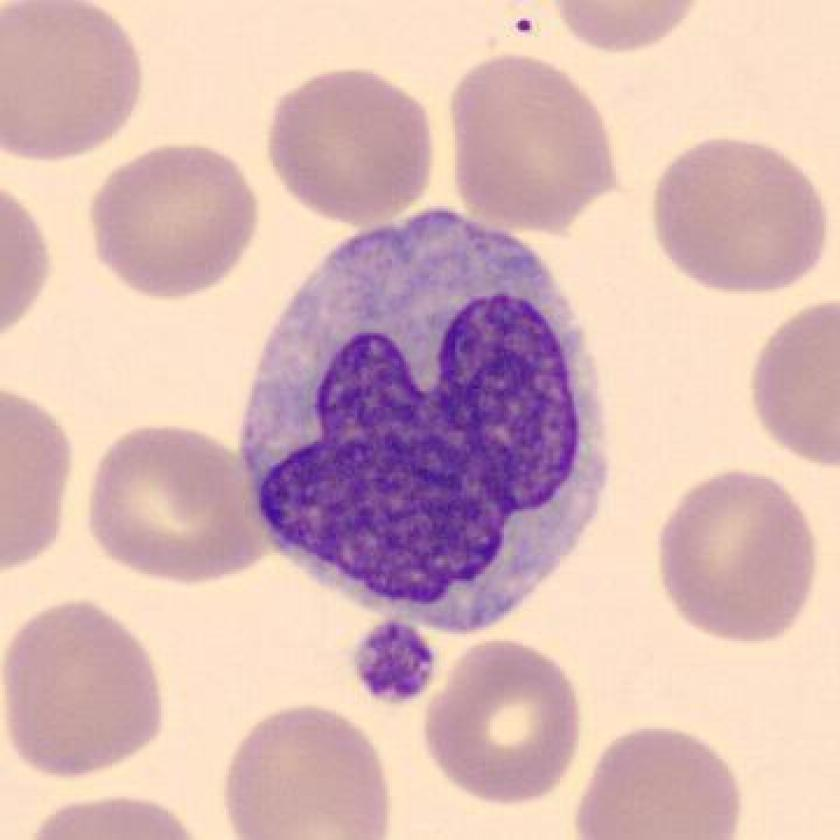monocyte: (218, 196, 636, 654)
